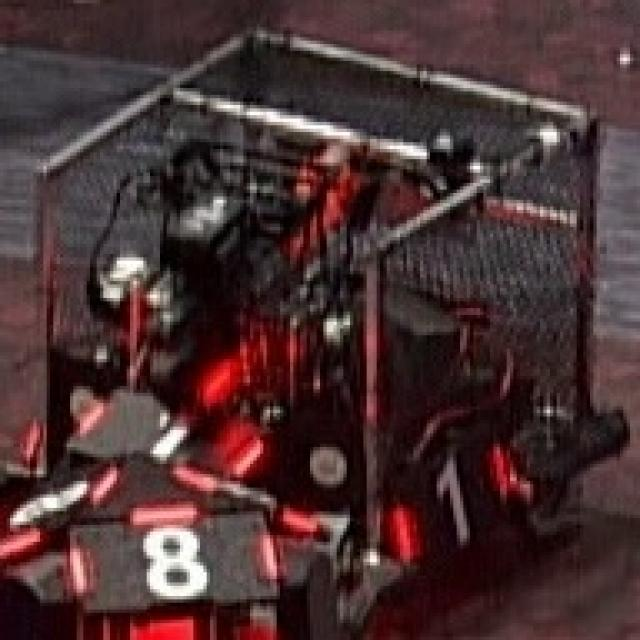R1: (390, 430, 510, 566)
